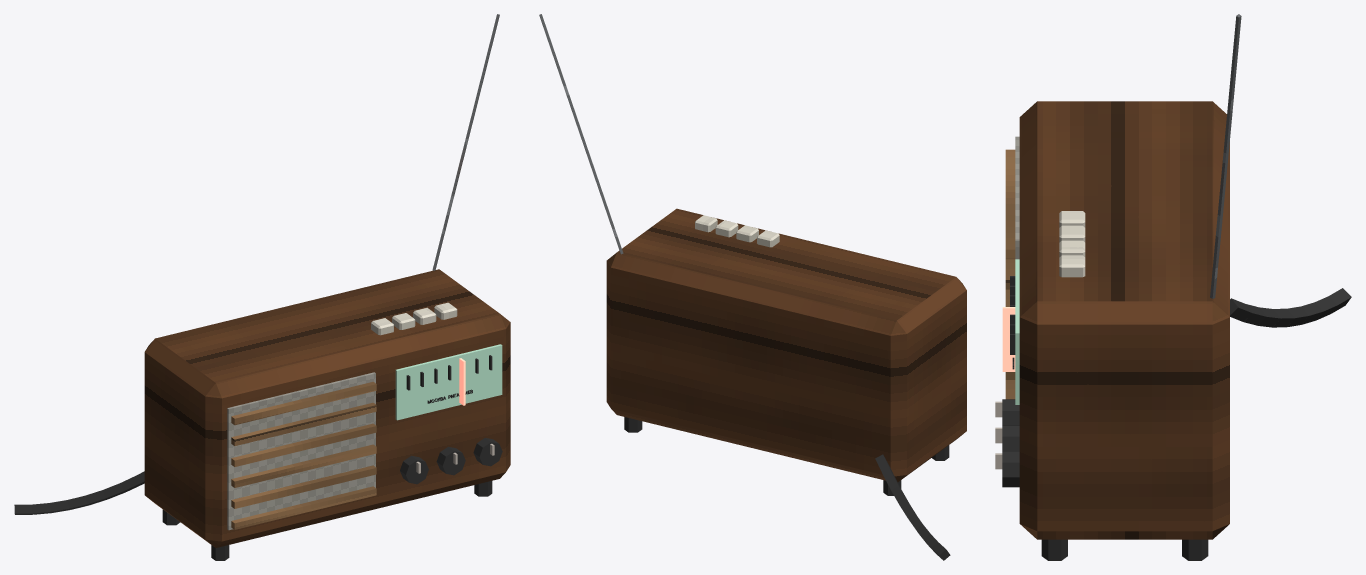
File: radio_vintage.glb
The picture shows the model from 3 angles, left to right: view 1: azimuth 30°, elevation 25°; view 2: azimuth 150°, elevation 25°; view 3: azimuth 270°, elevation 25°; orthographic projection. The views are drawn at different scales.
Parts seen in each view (by area): view 1: radio_vintage; view 2: radio_vintage; view 3: radio_vintage.
Part boxes in pixels (x1,y1,x2,y2): radio_vintage: [14, 14, 510, 560]; radio_vintage: [539, 14, 966, 560]; radio_vintage: [995, 14, 1351, 560].
Size of what is drawn, in the model's own units: 0.8584 by 0.7613 by 0.4067.
Materials: 9 (6 with a texture image).
